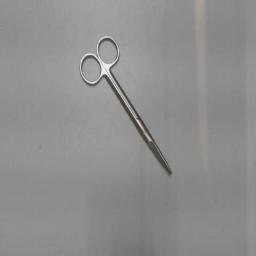Curved Mayo Scissors: (77, 32, 177, 182)
